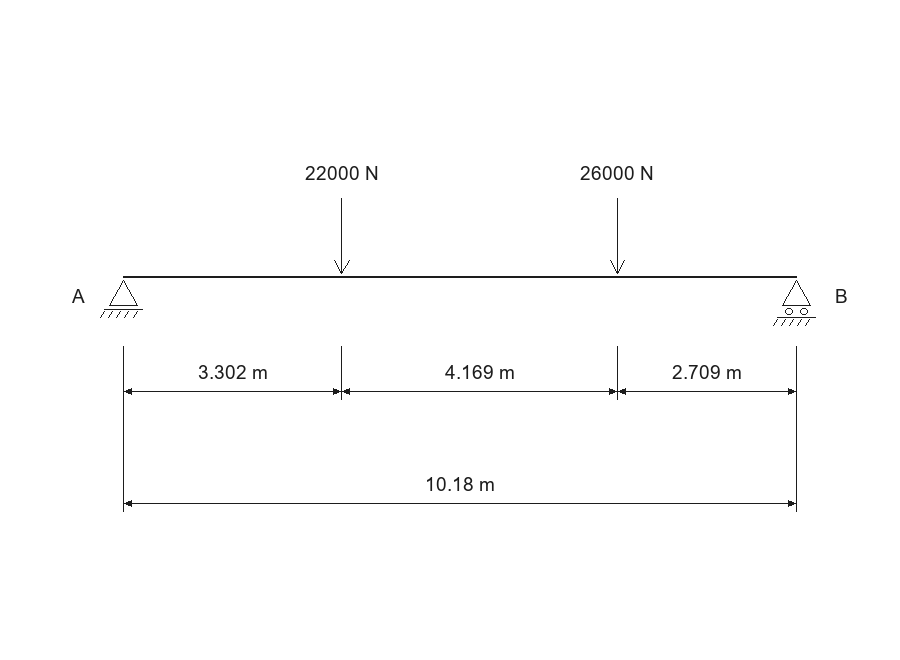pin_support: (100, 280, 143, 318)
point_load: (334, 198, 350, 274), (610, 198, 625, 274)
roller_support: (773, 280, 816, 326)
